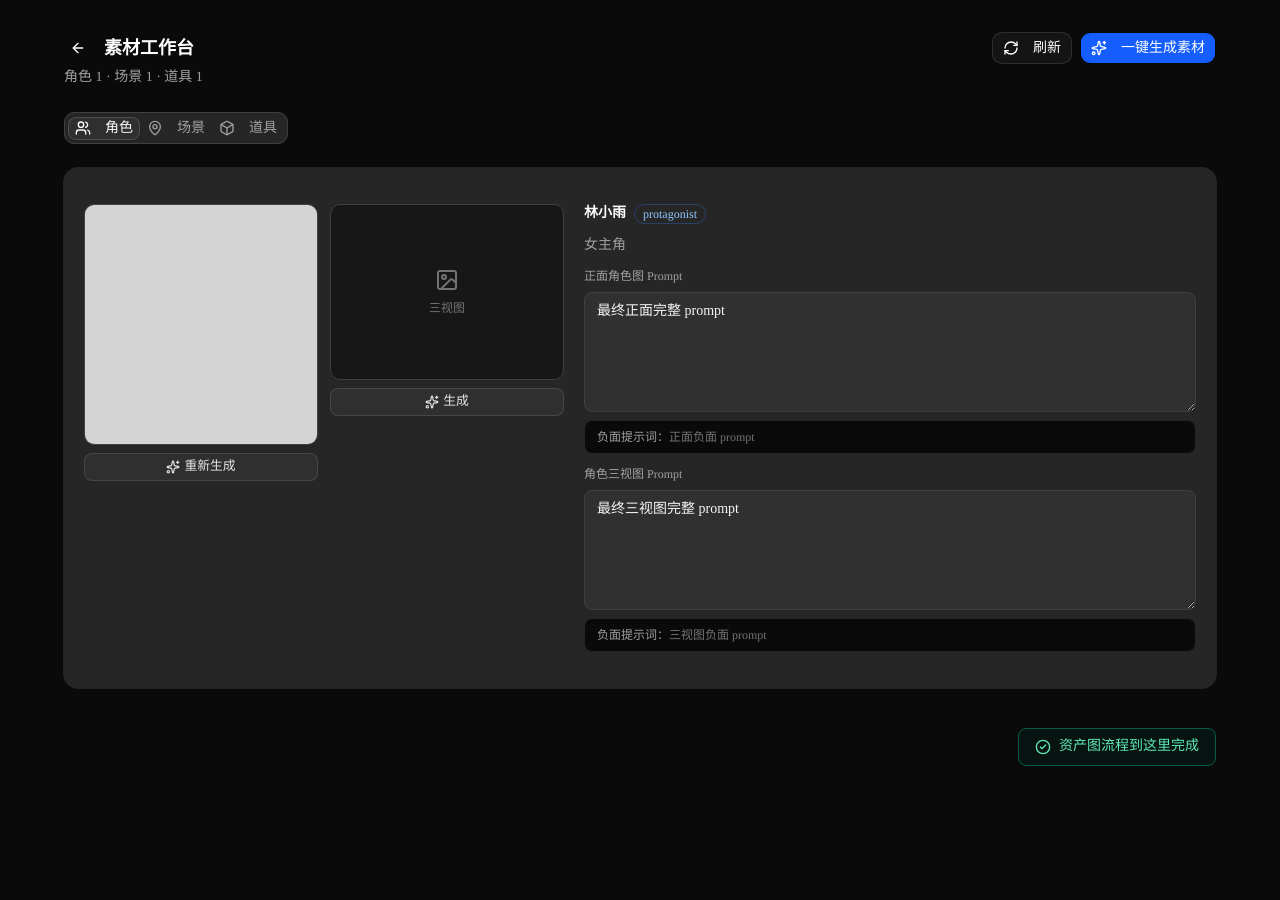
Test case: project assets page › zooms the fullscreen preview with the mouse wheel
What coordinates should you click on to do the following:
click the button named "正面图"
I would click on:
 (201, 324)
Its box is left=84, top=204, right=318, bottom=445.
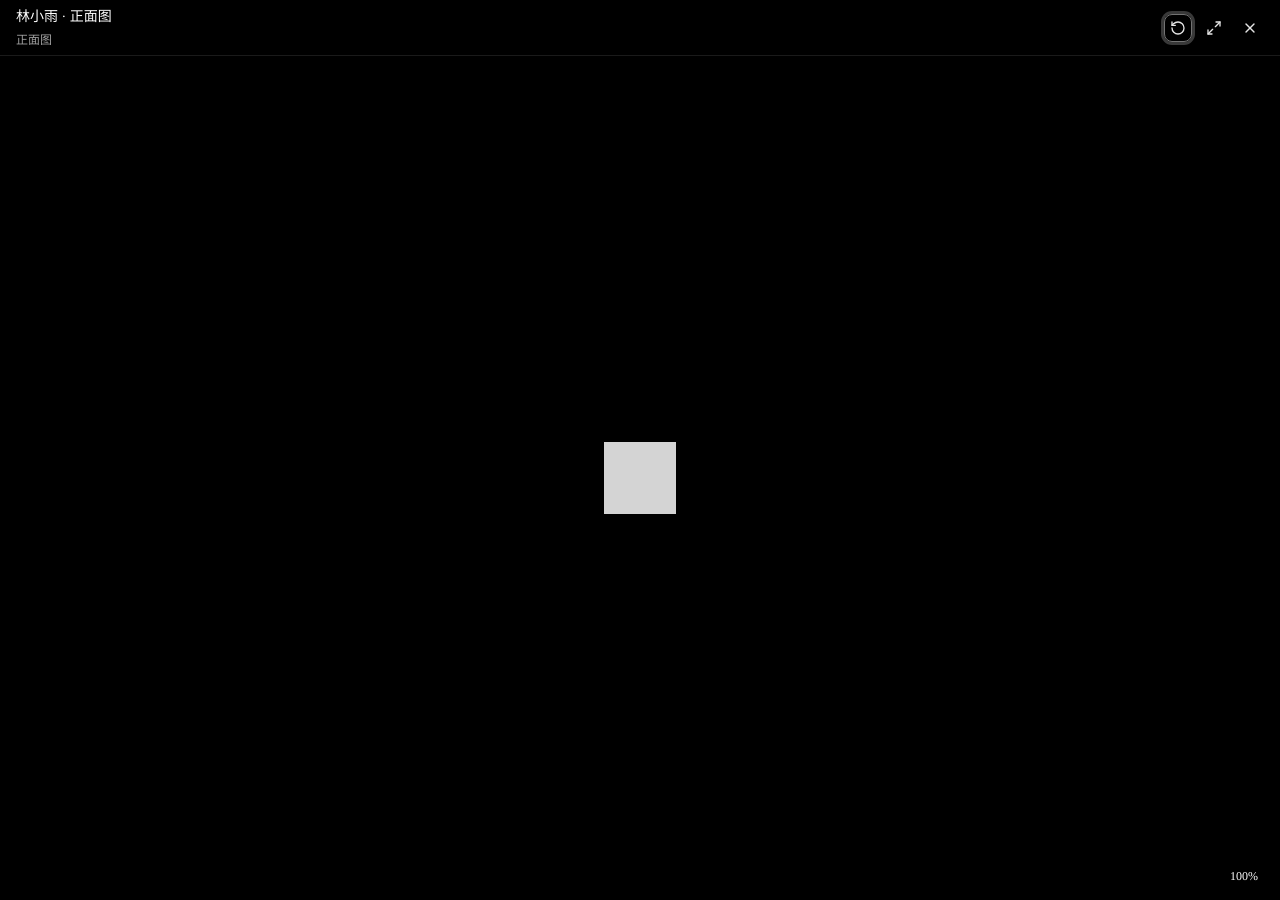
Expected: the text "100%" is shown, left=1220, top=864, right=1268, bottom=888
